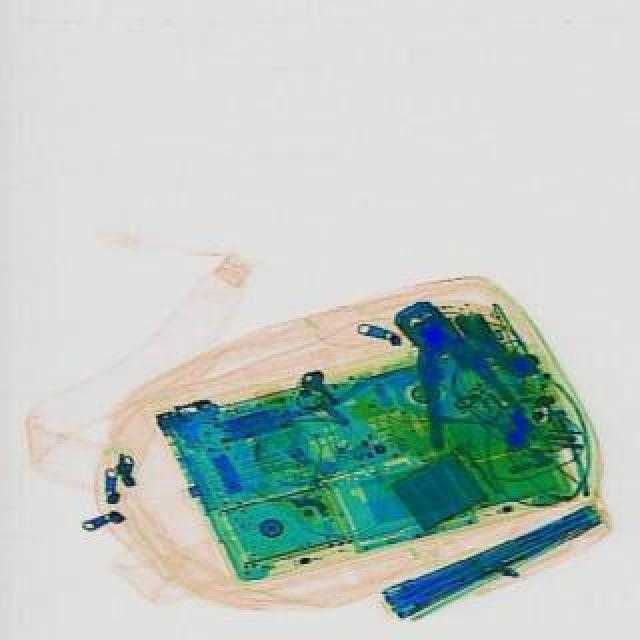wrench: (358, 282, 526, 454)
